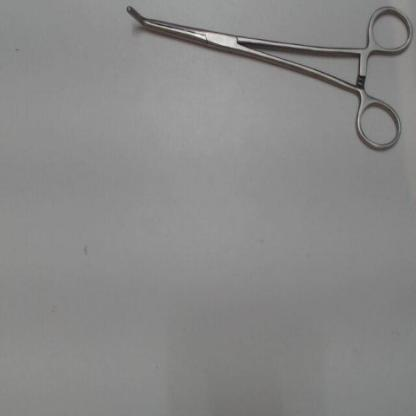Lahey Forceps: (120, 0, 414, 157)
